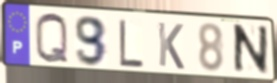8: (195, 21, 225, 75)
9: (73, 14, 109, 69)
K: (156, 20, 186, 72)
L: (118, 18, 146, 70)
N: (231, 23, 270, 77)
Q: (33, 11, 71, 66)
